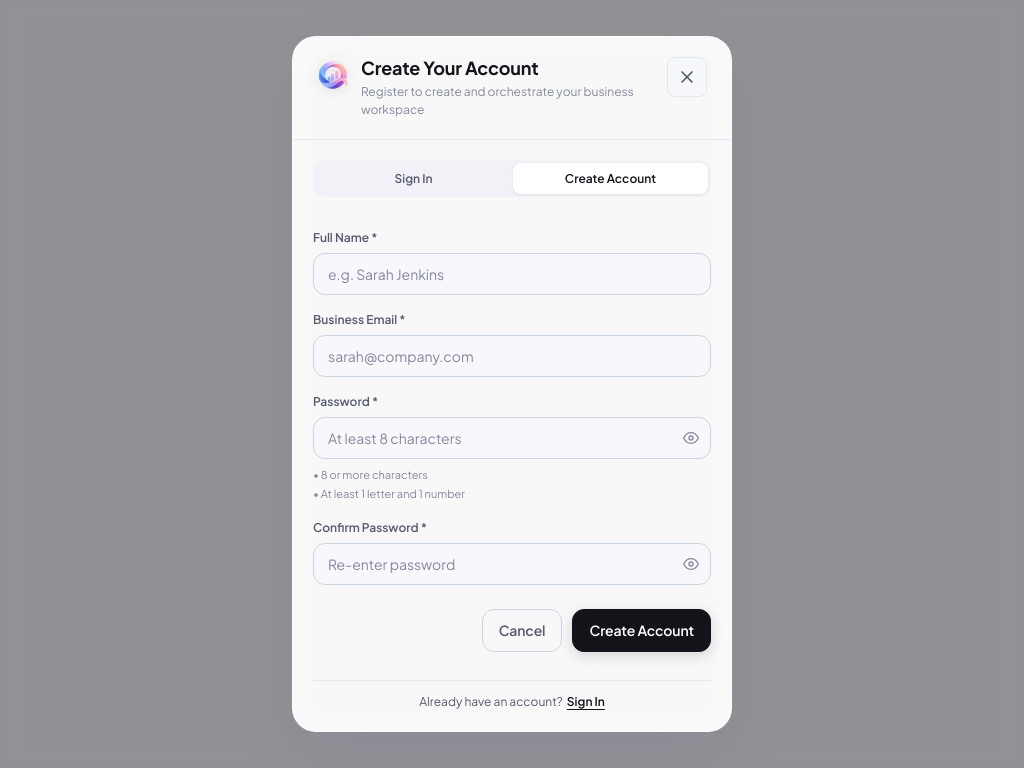
Public User Registration & Business Onboarding Suite › 2. Registration Submission & Verification Pending State › handles duplicate email error message cleanly
The image size is (1024, 768).
Type "Alex Dupont" into the field labelled "Full Name *" at (512, 274), box [313,253,711,295]
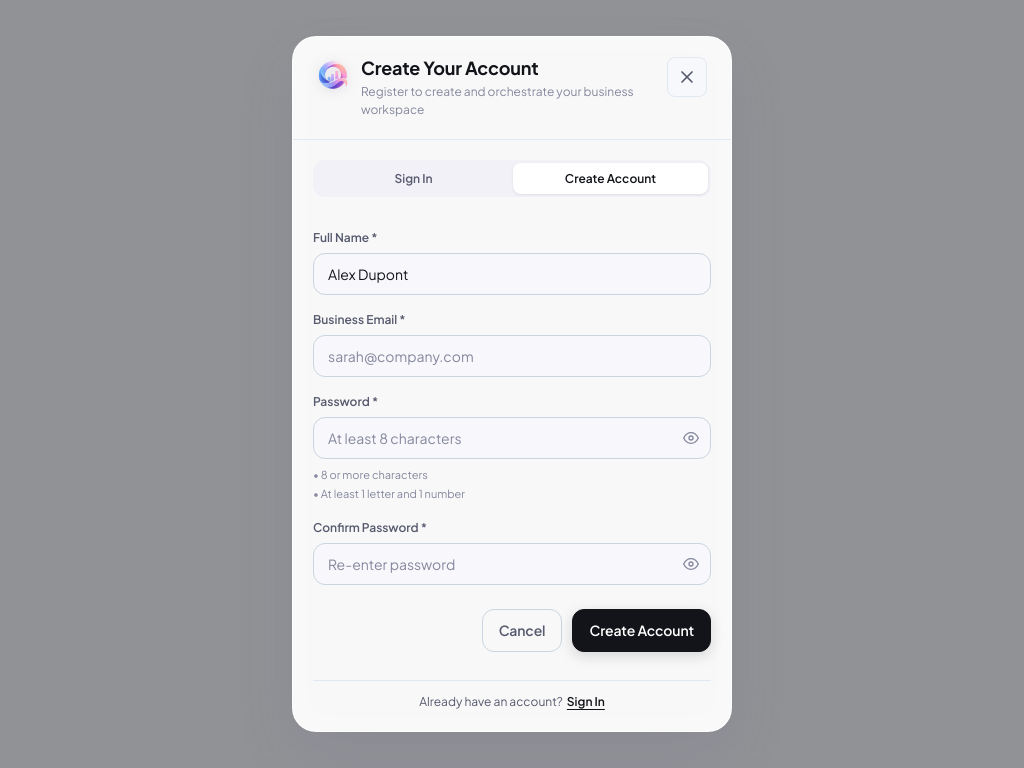
Type "alex@existing.com" into the field labelled "Business Email *" at (512, 356), box [313,335,711,377]
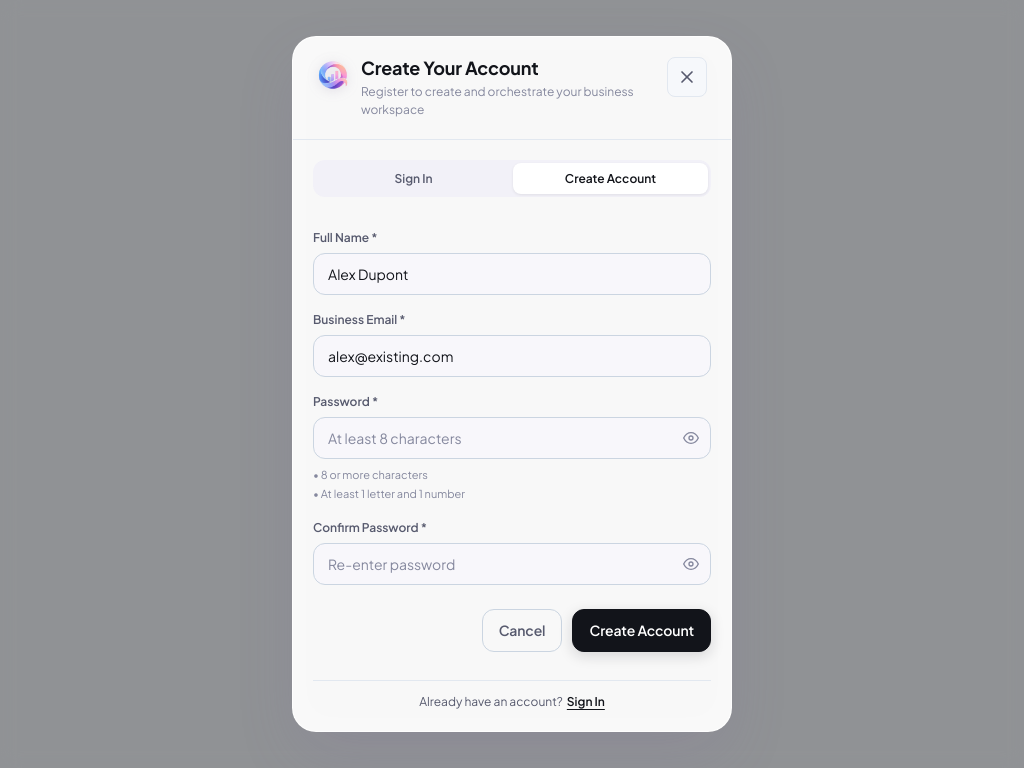
Type "Secret999" into the password field labelled "Password *" at (512, 438), box [313,417,711,459]
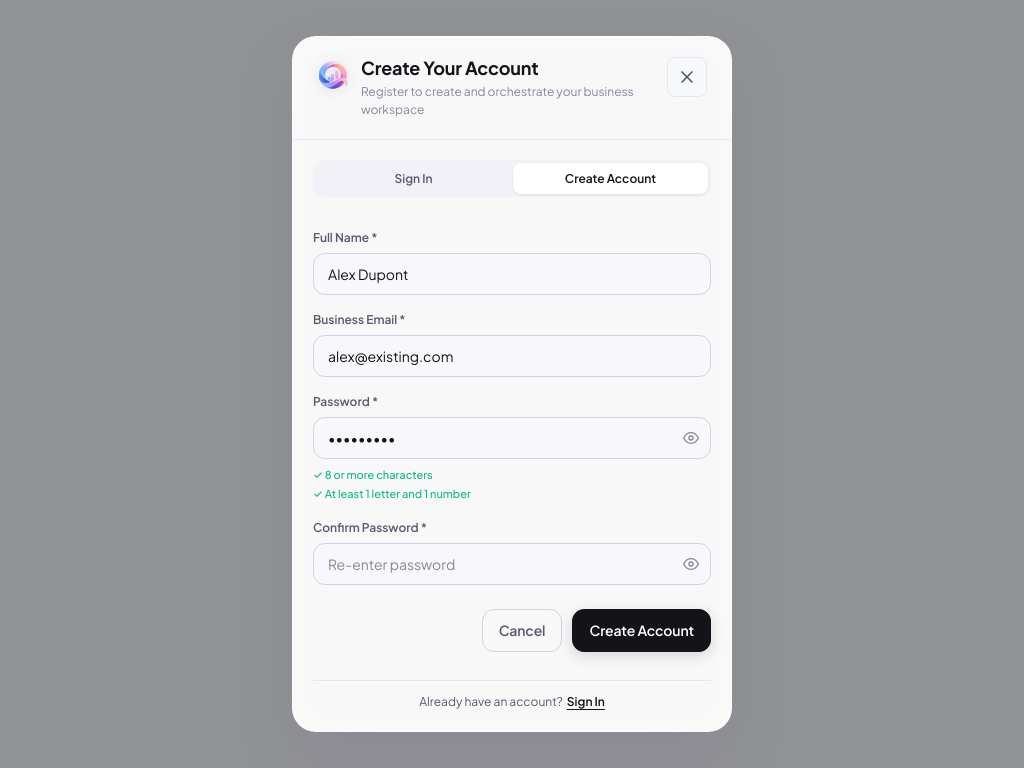
Type "Secret999" into the password field labelled "Confirm Password *" at (512, 564), box [313,543,711,585]
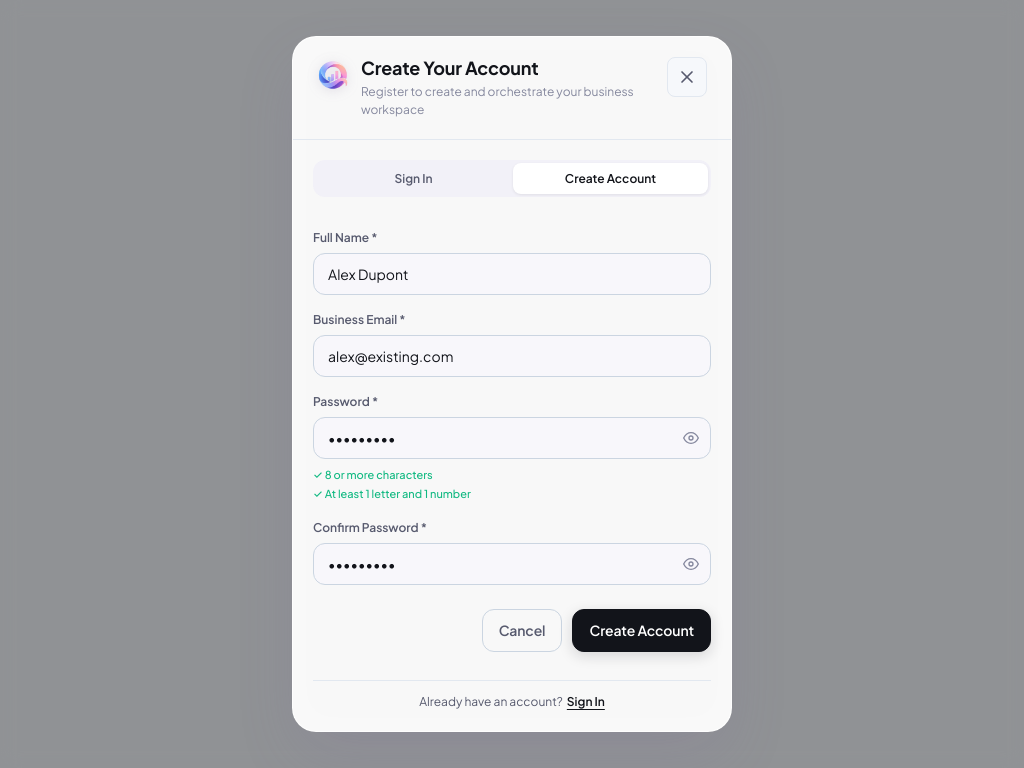
Click the button "Create Account" at (642, 630), box [572,609,711,652]
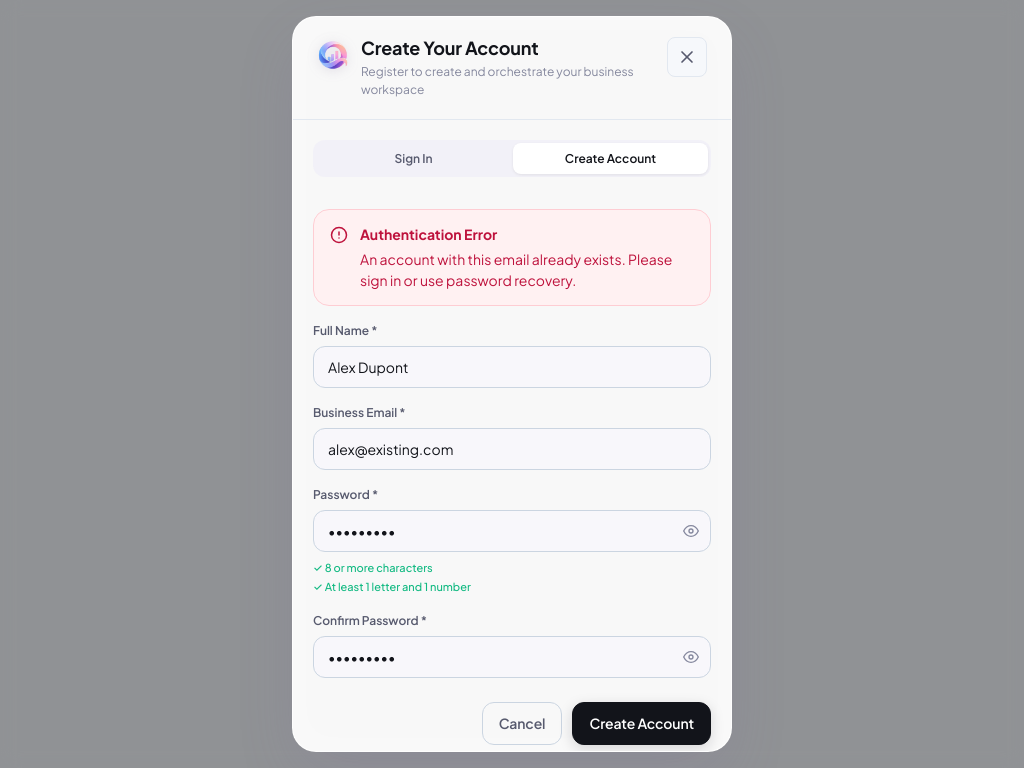
Now the text "An account with this email already exists" is shown, box [360,250,672,289]
